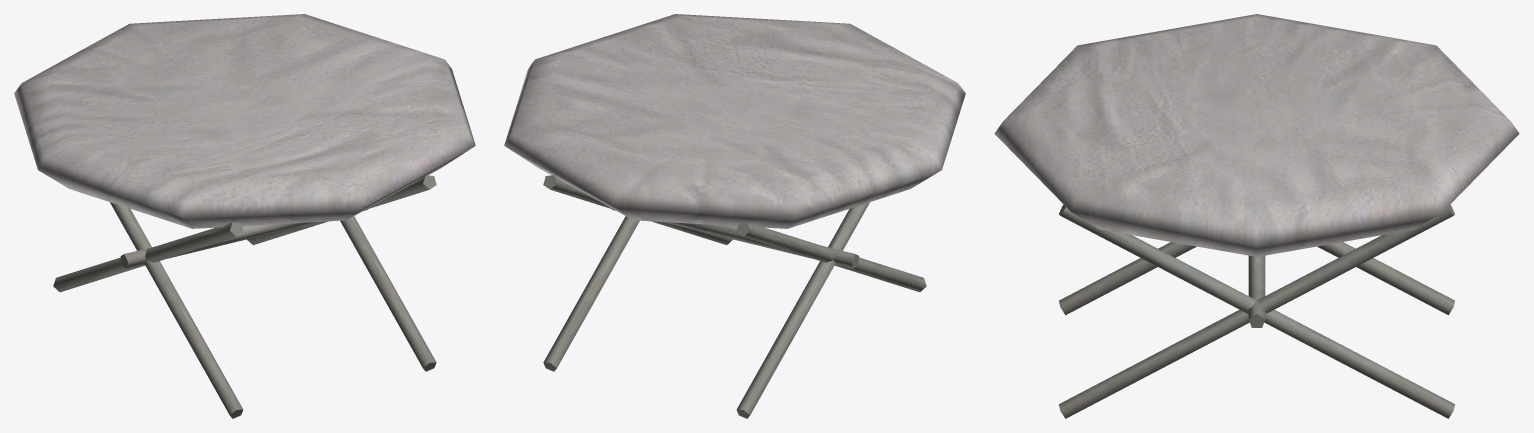
The model's file is eqp_camping_stool_short_l0.fbx.
The picture shows the model from 3 angles, left to right: view 1: azimuth 30°, elevation 25°; view 2: azimuth 150°, elevation 25°; view 3: azimuth 270°, elevation 25°; orthographic projection. The views are drawn at different scales.
Visible parts, largest first — view 1: mesh_node; view 2: mesh_node; view 3: mesh_node.
Part boxes in pixels (left/top/right/bottom): mesh_node: left=14, top=14, right=475, bottom=418; mesh_node: left=504, top=14, right=965, bottom=418; mesh_node: left=994, top=14, right=1519, bottom=418.
Size of the model in its own units: 0.5698 by 0.3056 by 0.5698.
Materials: 1 (1 with a texture image).
